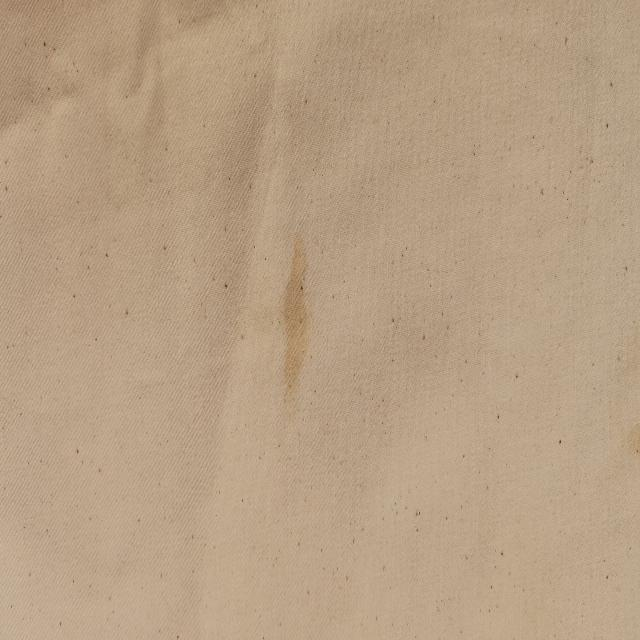taaaches: (270, 222, 342, 436)
